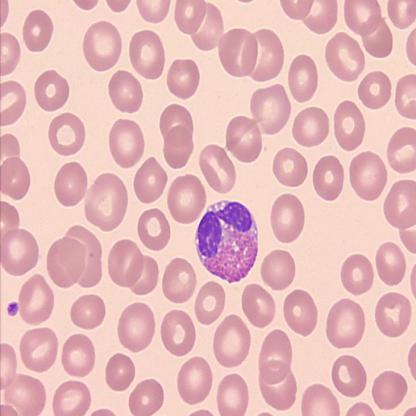Eosinophil: (196, 198, 257, 281)
